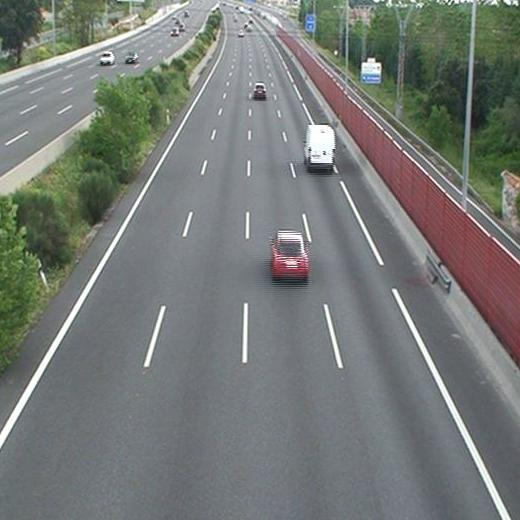car: (271, 232, 308, 278), (253, 83, 266, 98)
van: (304, 124, 334, 168)
